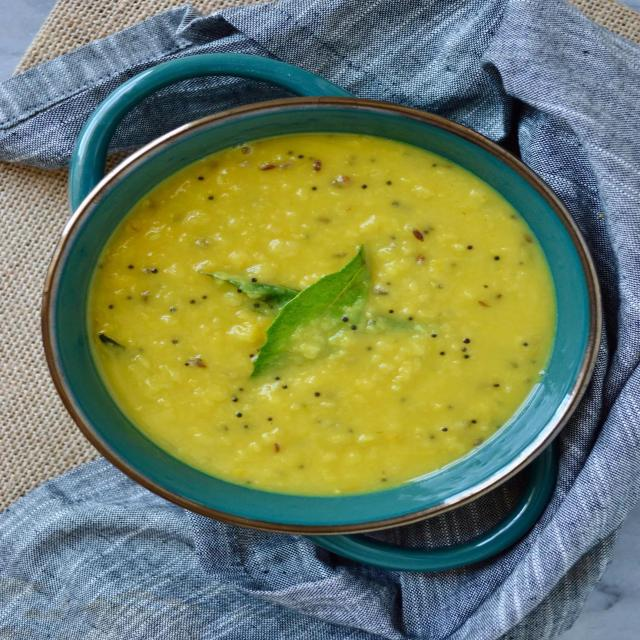dal: (85, 136, 560, 502)
